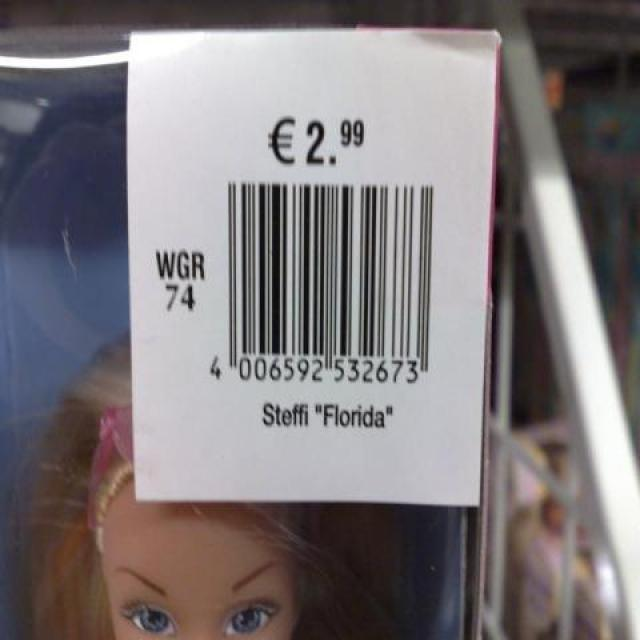Barcode: (206, 170, 446, 398)
